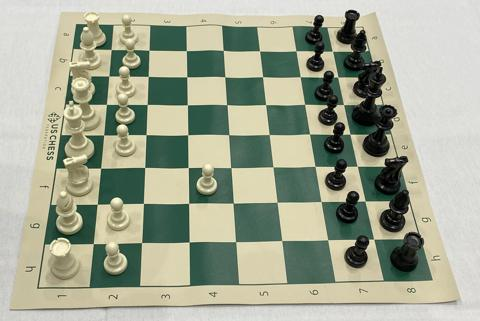xcorner: (142, 97, 153, 109), (274, 196, 285, 208), (329, 45, 340, 56), (293, 45, 304, 56), (256, 44, 267, 55), (219, 44, 230, 55), (182, 43, 193, 54), (144, 43, 155, 54), (106, 42, 117, 53), (335, 71, 346, 82), (297, 71, 308, 82), (259, 70, 270, 81), (221, 70, 232, 81), (182, 70, 193, 81), (143, 69, 154, 80), (104, 69, 115, 80), (341, 99, 352, 110), (302, 99, 313, 110), (263, 98, 274, 109), (223, 98, 234, 109), (183, 98, 194, 109), (101, 97, 112, 108), (348, 129, 359, 140), (307, 129, 318, 140), (266, 128, 277, 139), (225, 128, 236, 139), (183, 128, 194, 139), (141, 128, 152, 139), (98, 128, 109, 139), (355, 161, 366, 172), (313, 161, 324, 172), (270, 161, 281, 172), (227, 161, 238, 172), (184, 161, 195, 172), (140, 161, 151, 172), (95, 161, 106, 172), (363, 196, 374, 207), (319, 196, 330, 207), (230, 197, 241, 208), (184, 197, 195, 208), (138, 197, 149, 208), (92, 198, 103, 209), (371, 234, 382, 245), (325, 235, 336, 246), (279, 235, 290, 246), (232, 236, 243, 247), (185, 236, 196, 247), (137, 237, 148, 248), (88, 237, 99, 248)
